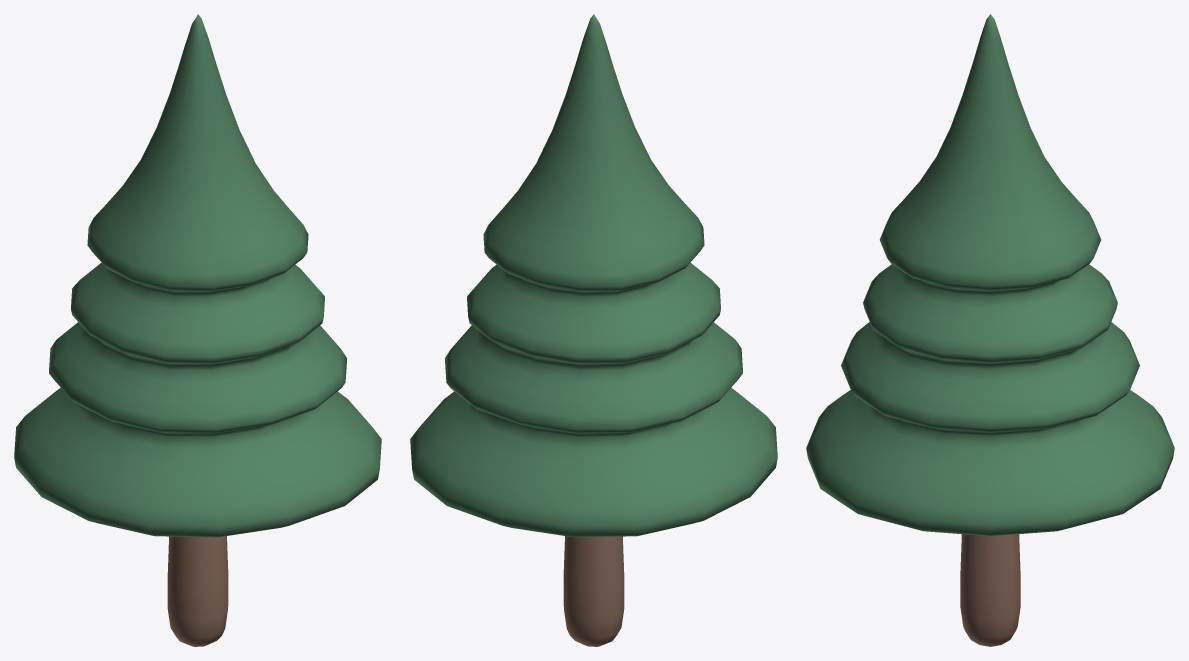
The model's file is tree2.fbx.
3 renders of one model, left to right at view 1: azimuth 30°, elevation 25°; view 2: azimuth 150°, elevation 25°; view 3: azimuth 270°, elevation 25°, orthographic.
Parts seen in each view (by area): view 1: tree; view 2: tree; view 3: tree.
Part boxes in pixels (x1,y1,x2,y2): tree: (14, 14, 381, 646); tree: (410, 14, 777, 646); tree: (806, 14, 1174, 646).
Size of the model in its own units: 526 by 1002 by 531.
